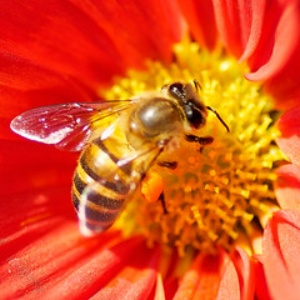bee: (9, 80, 232, 241)
